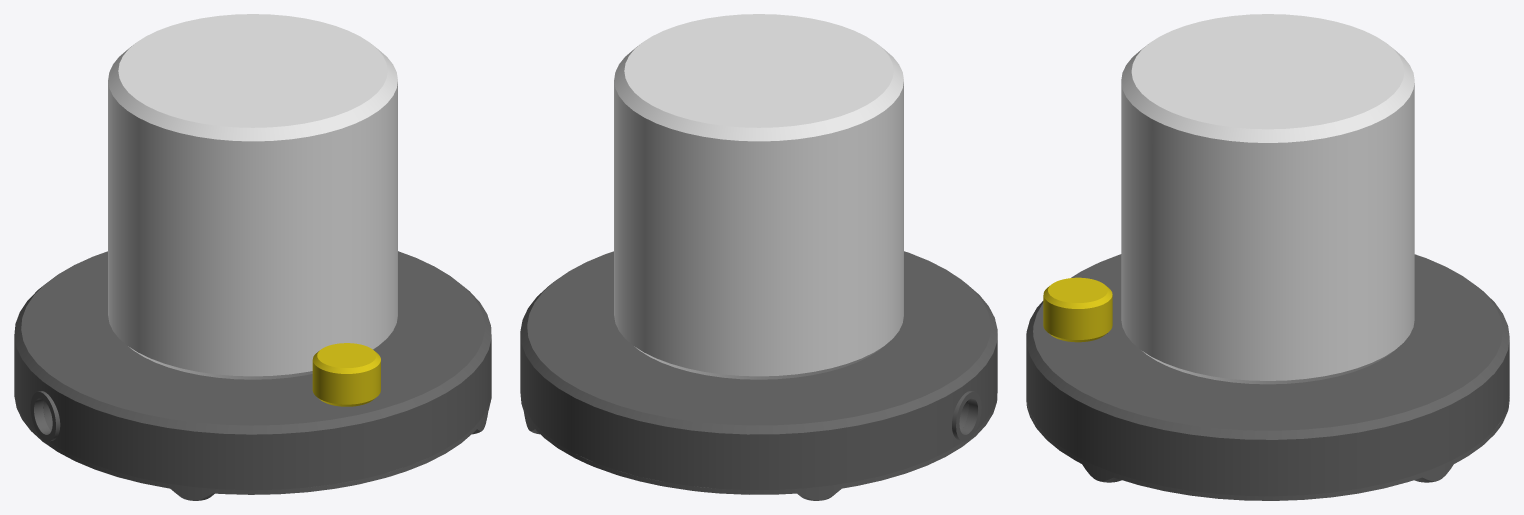
The model's file is assieme1.gltf.
3 views of the same model, side by side, from view 1: azimuth 30°, elevation 25°; view 2: azimuth 150°, elevation 25°; view 3: azimuth 270°, elevation 25° (orthographic).
Parts seen in each view (by area): view 1: Paralume-1, Base_1-1, Manopola-1, Base cover-1; view 2: Paralume-1, Base_1-1, Base cover-1; view 3: Paralume-1, Base_1-1, Manopola-1, Base cover-1.
Part boxes in pixels (x1,y1,x2,y2): Paralume-1: (108, 14, 397, 379); Base_1-1: (14, 251, 491, 490); Manopola-1: (312, 343, 380, 406); Base cover-1: (14, 392, 491, 500); Paralume-1: (614, 14, 903, 379); Base_1-1: (520, 251, 997, 489); Base cover-1: (520, 389, 997, 500); Paralume-1: (1121, 14, 1414, 384); Base_1-1: (1026, 254, 1509, 496); Manopola-1: (1043, 277, 1112, 342); Base cover-1: (1026, 396, 1509, 500).
Bounding box in the file's own units: 0.141 × 0.1075 × 0.14.
